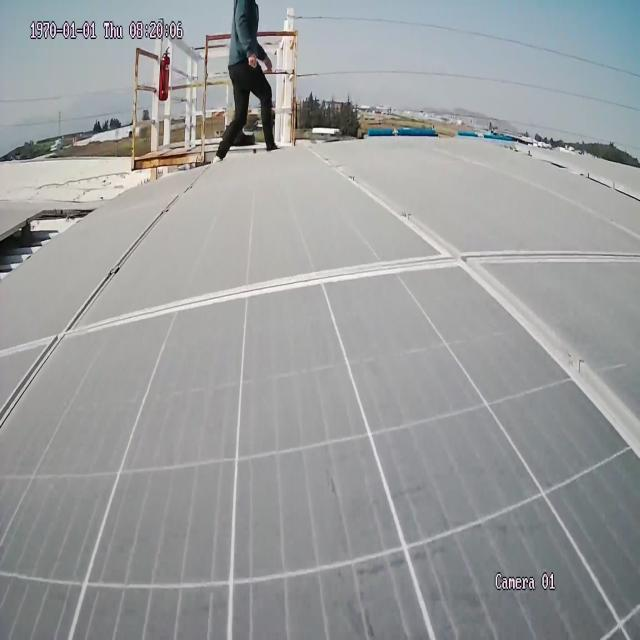interior panel: (0, 153, 640, 462)
outher panel: (1, 206, 93, 281)
